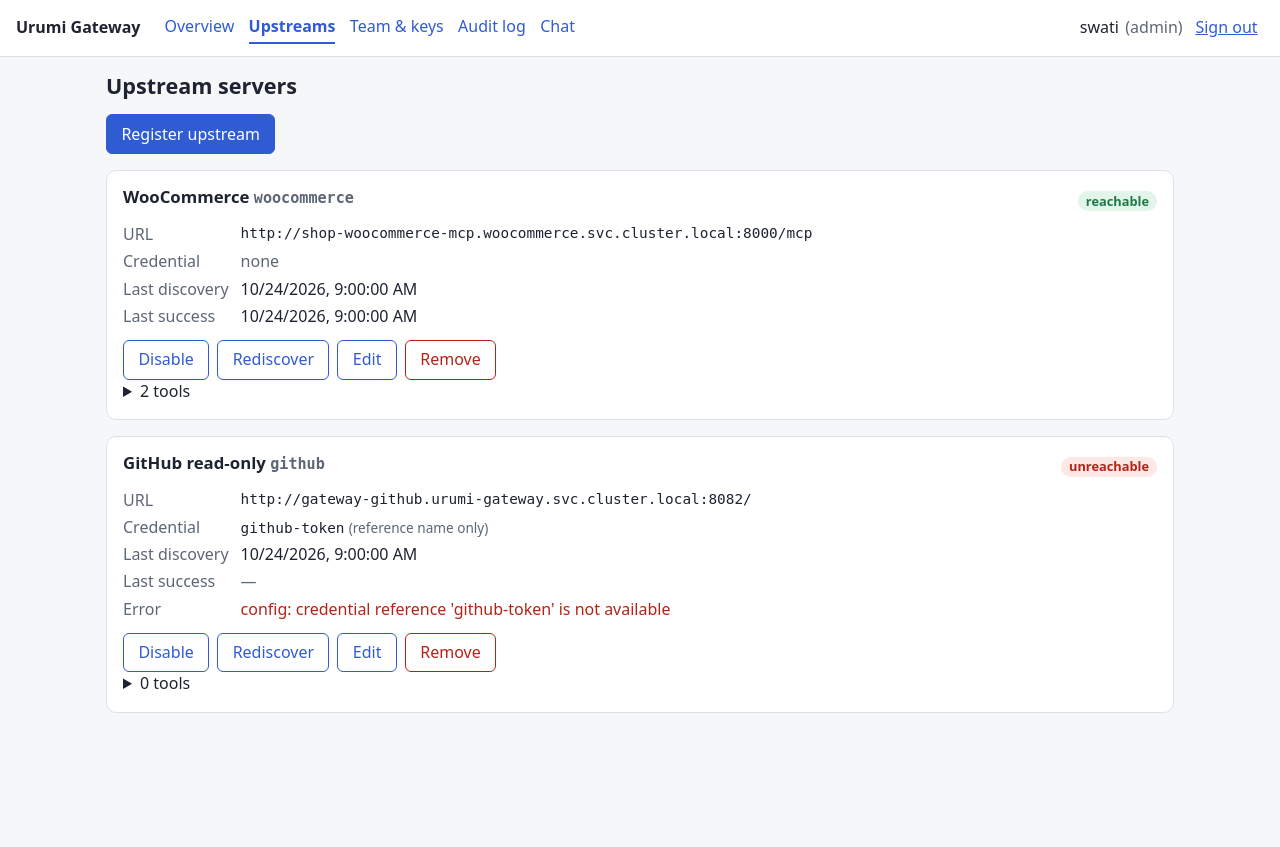
Test: loading and errors › shows backend validation errors when registering an upstream
Click the button "Register upstream" at (191, 134), box [106,114,275,154]
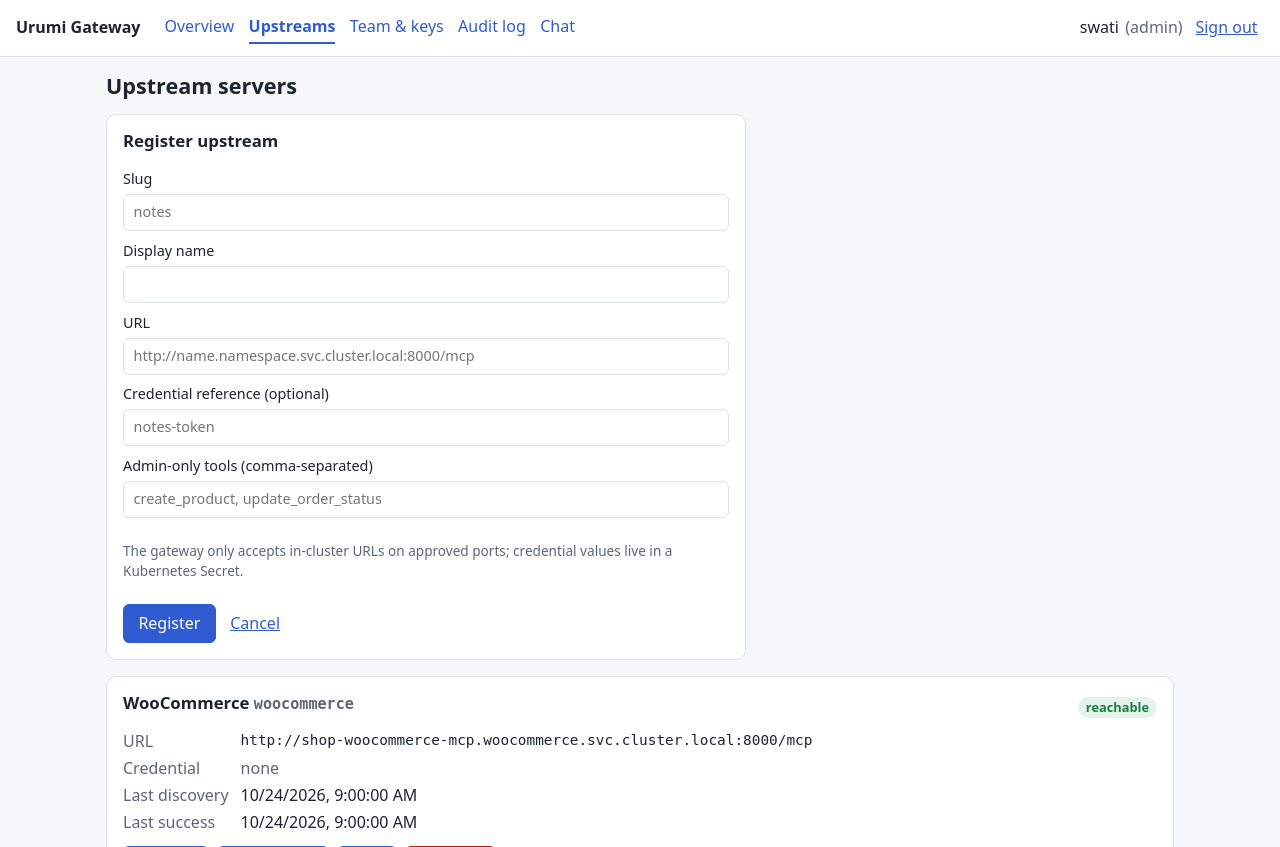
Type "meta" into the field labelled "Slug" at (426, 213), box [123,194,729,231]
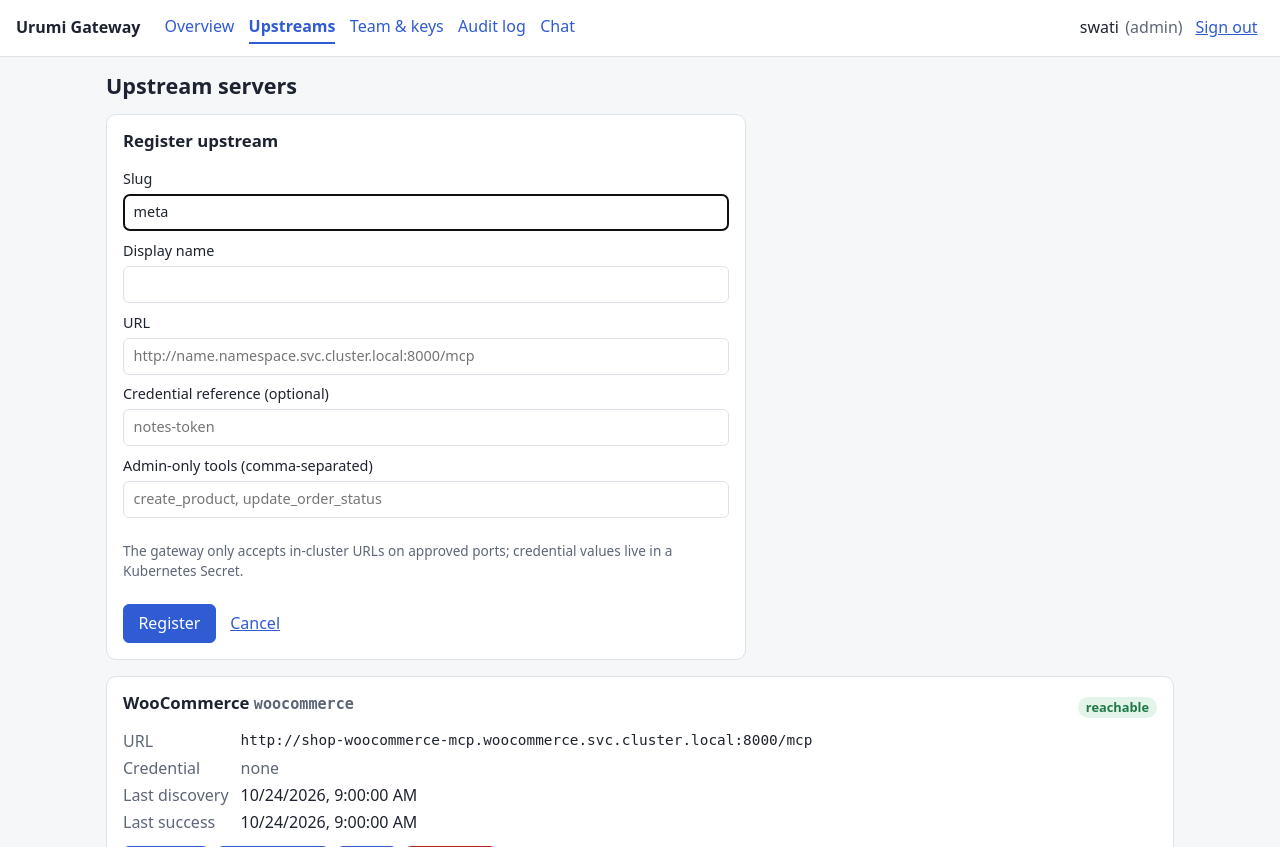
Type "Meta" into the field labelled "Display name" at (426, 284), box [123,266,729,303]
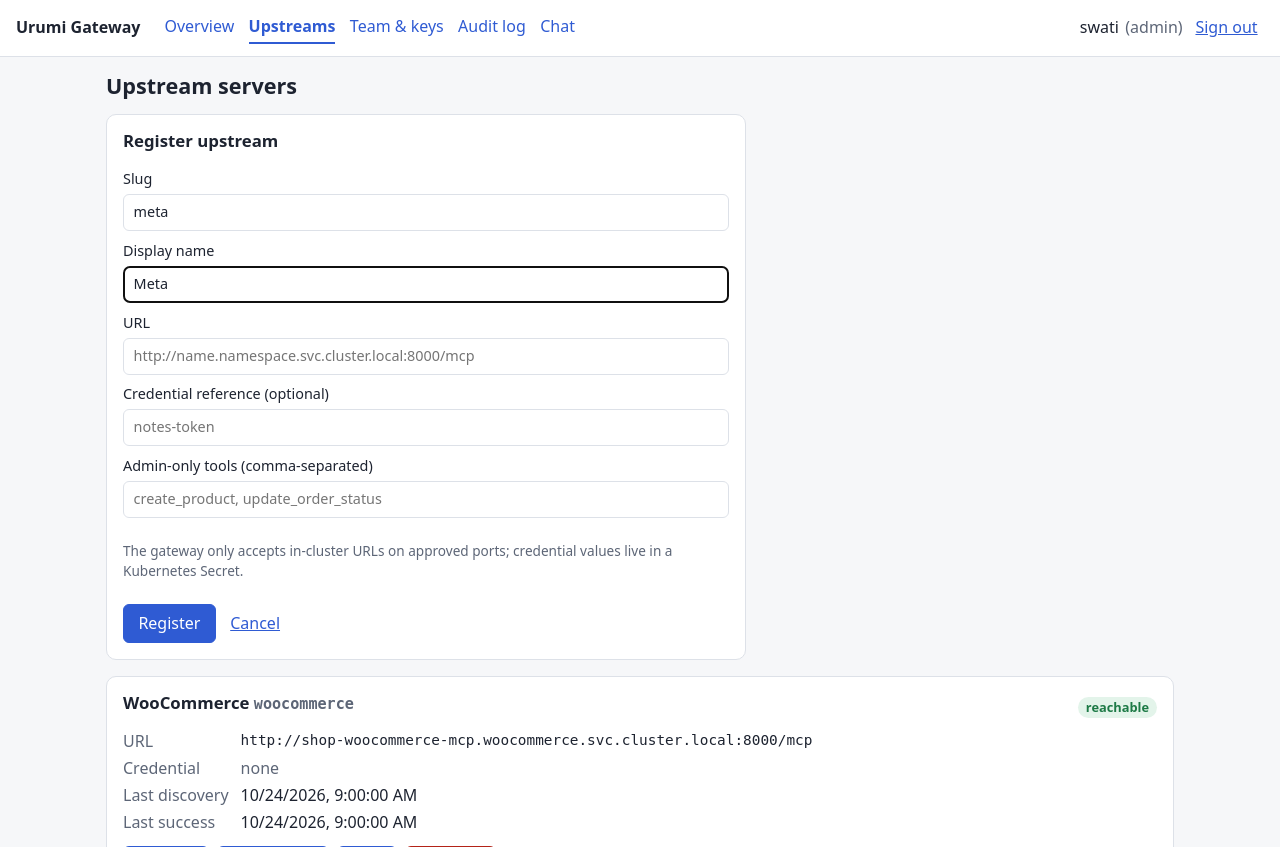
Type "http://169.254.169.254/" into the field labelled "URL" at (426, 356), box [123,338,729,375]
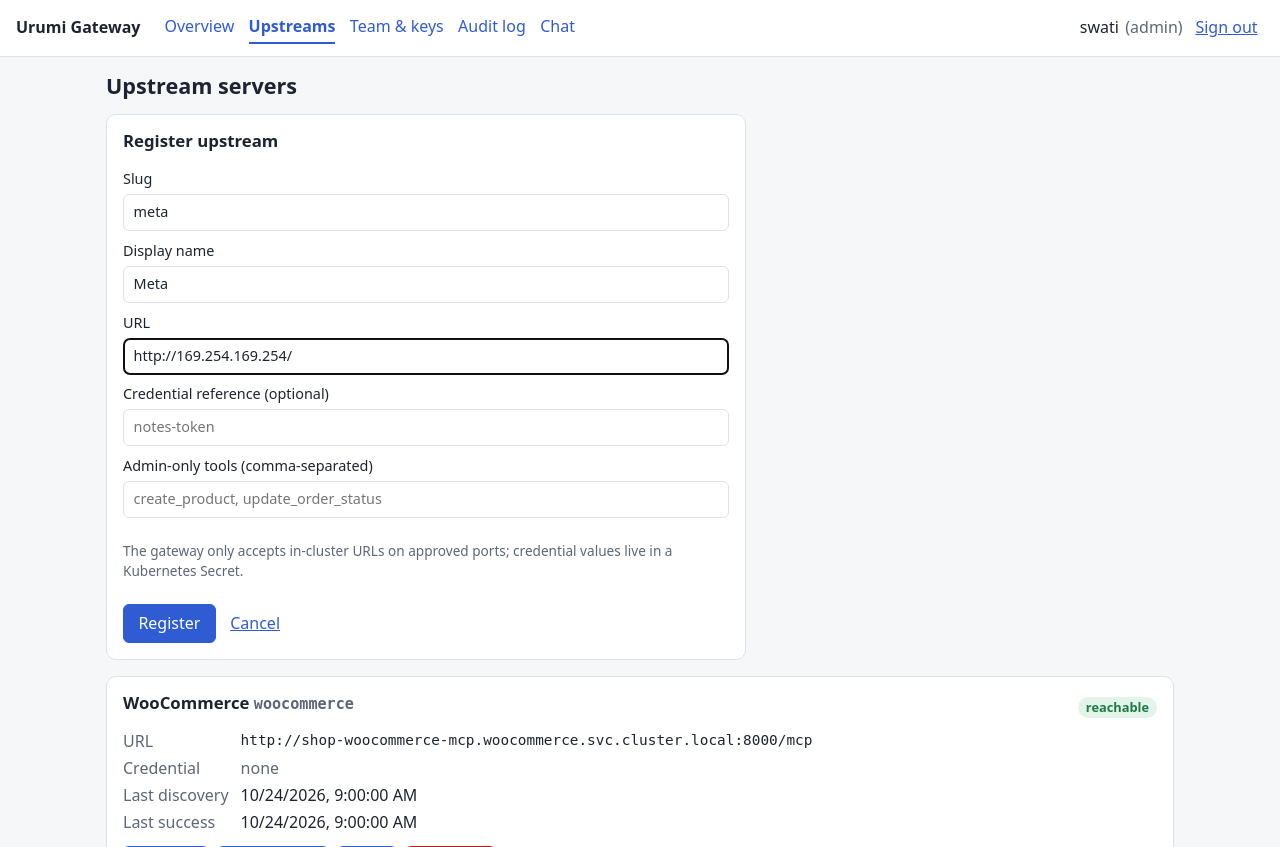
Click the button "Register" at (169, 624), box [123,604,216,644]
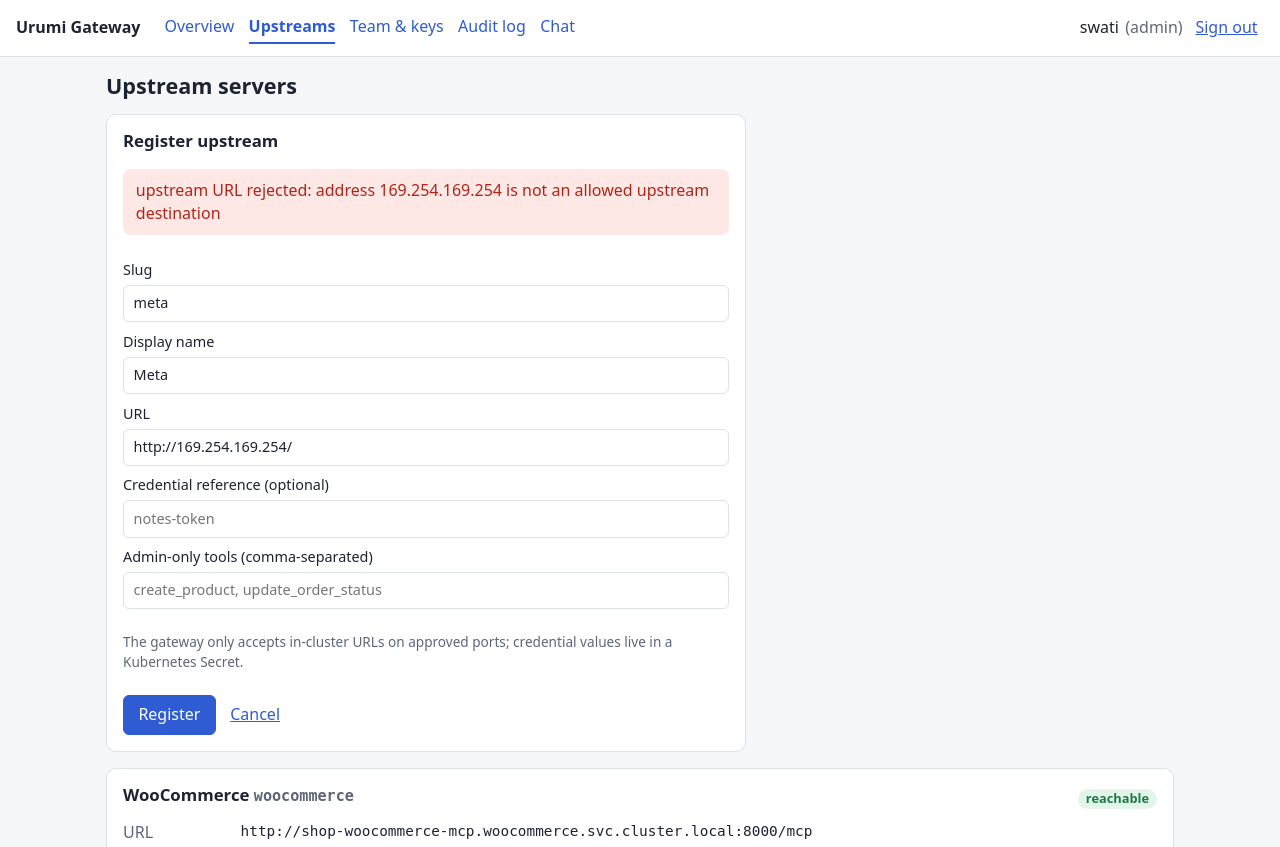
Expected: the message shows "not an allowed upstream destination", [136,179,709,224]
